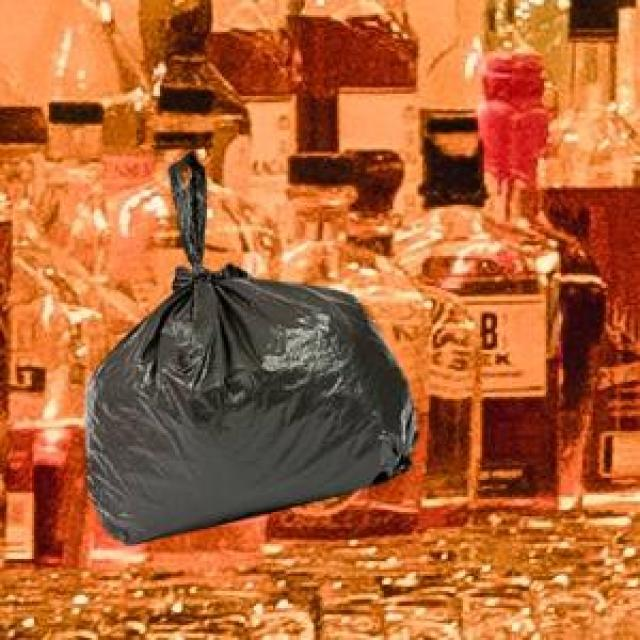Trashbag: (77, 143, 423, 552)
